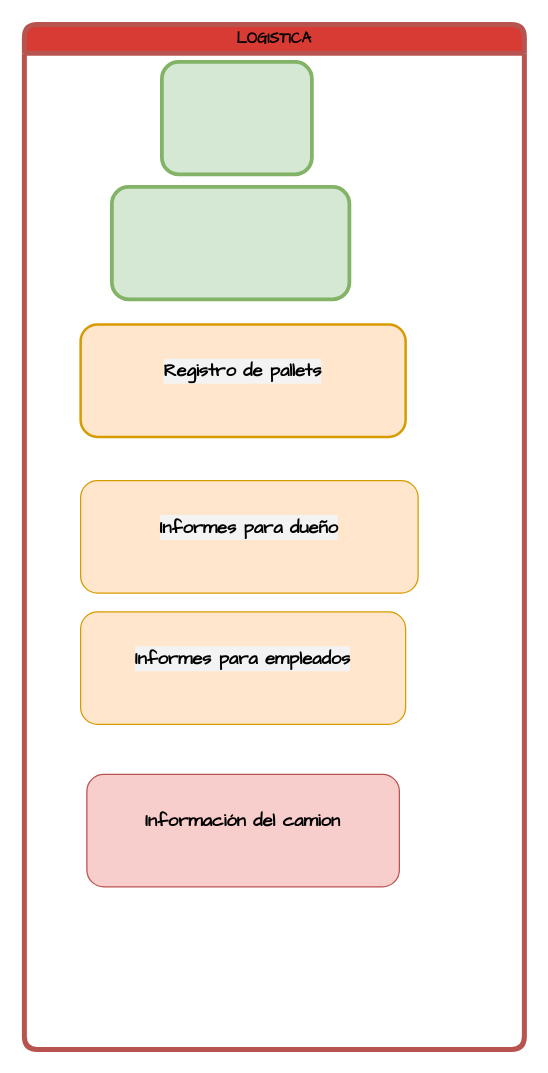
This 548x1073 diagram has some shape labels left out. The centre of each missing label's shape, as x and y in pixels:
"Controlar los stock de pallets" belongs at (230,242).
"Login de cuenta para dueño y empleado" belongs at (236,117).
